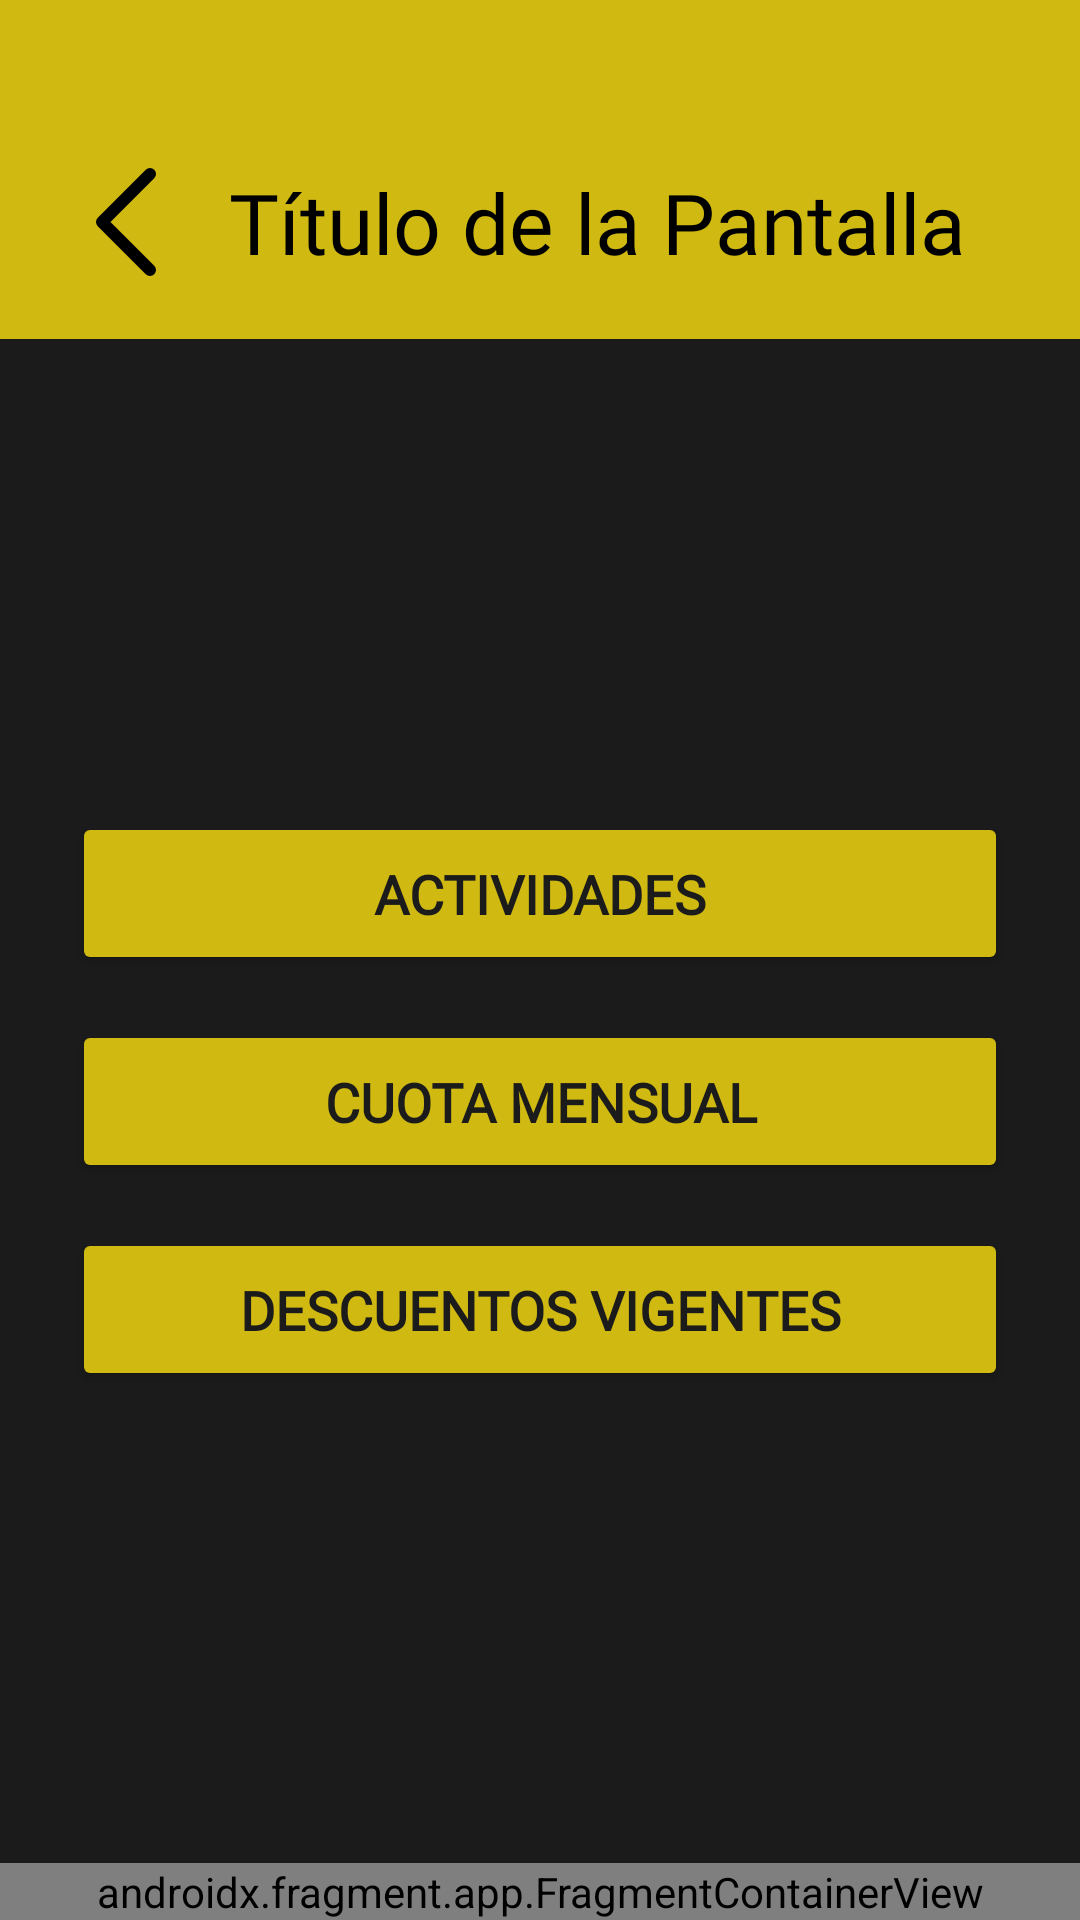

Point at icon controls on the screen. Image size 1080 × 1920, points as [x,y].
atras: [126,222]
